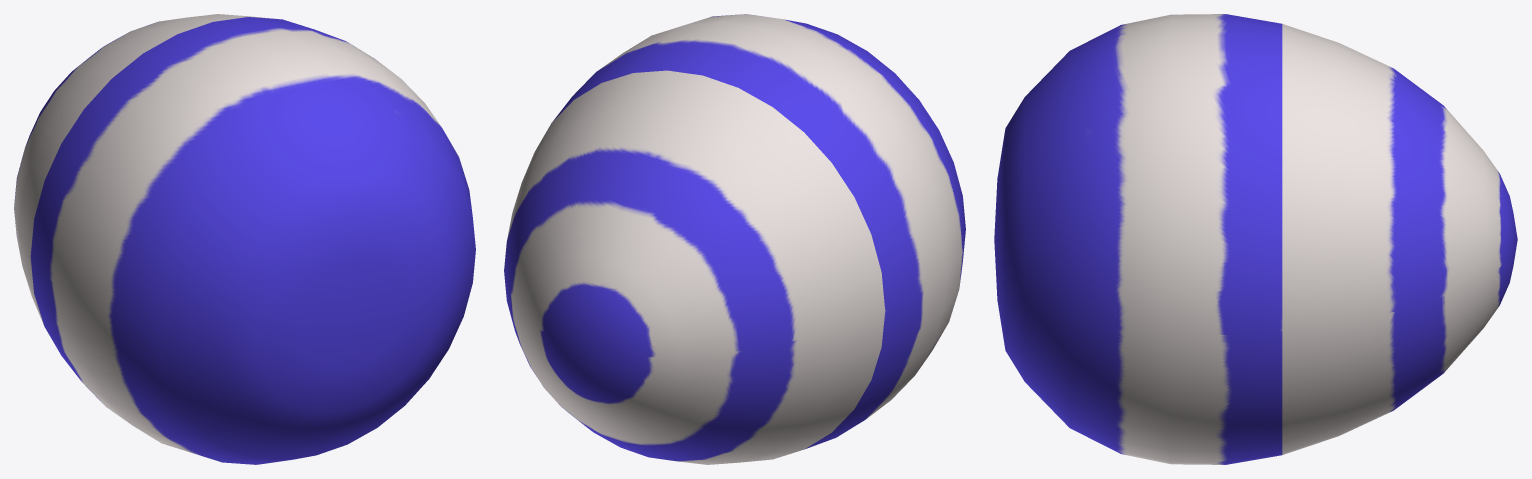
File: dinoEggBlue.dae
3 renders of one model, left to right at view 1: azimuth 30°, elevation 25°; view 2: azimuth 150°, elevation 25°; view 3: azimuth 270°, elevation 25°, orthographic. The views are drawn at different scales.
Visible parts, largest first — view 1: Egg; view 2: Egg; view 3: Egg.
Boxes of the visible parts, <box> form: Egg: <box>14,14,475,464</box>; Egg: <box>504,14,965,464</box>; Egg: <box>994,14,1517,464</box>.
Size of the model in its own units: 1.55 by 1.8 by 1.55.
